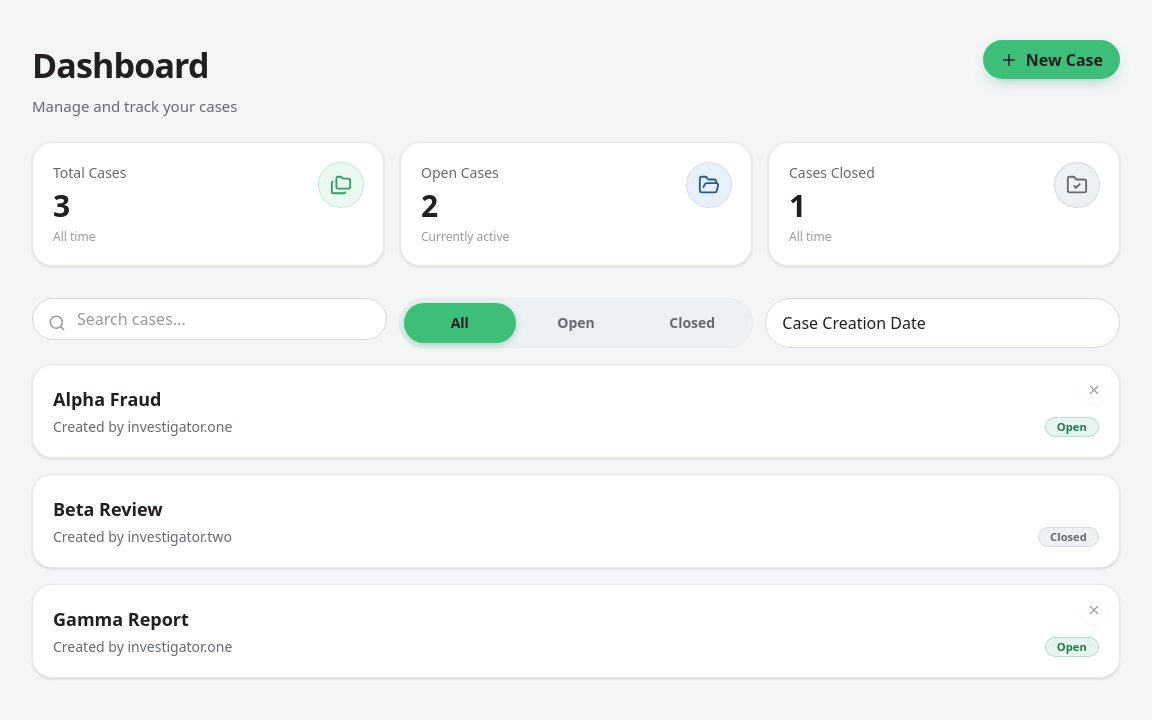
Test: Dashboard (integration) › deletes a case and removes it from the list after refresh
Click the button named "Delete case" in the row of "Alpha Fraud" at [1094, 390], box [1080, 376, 1108, 404]
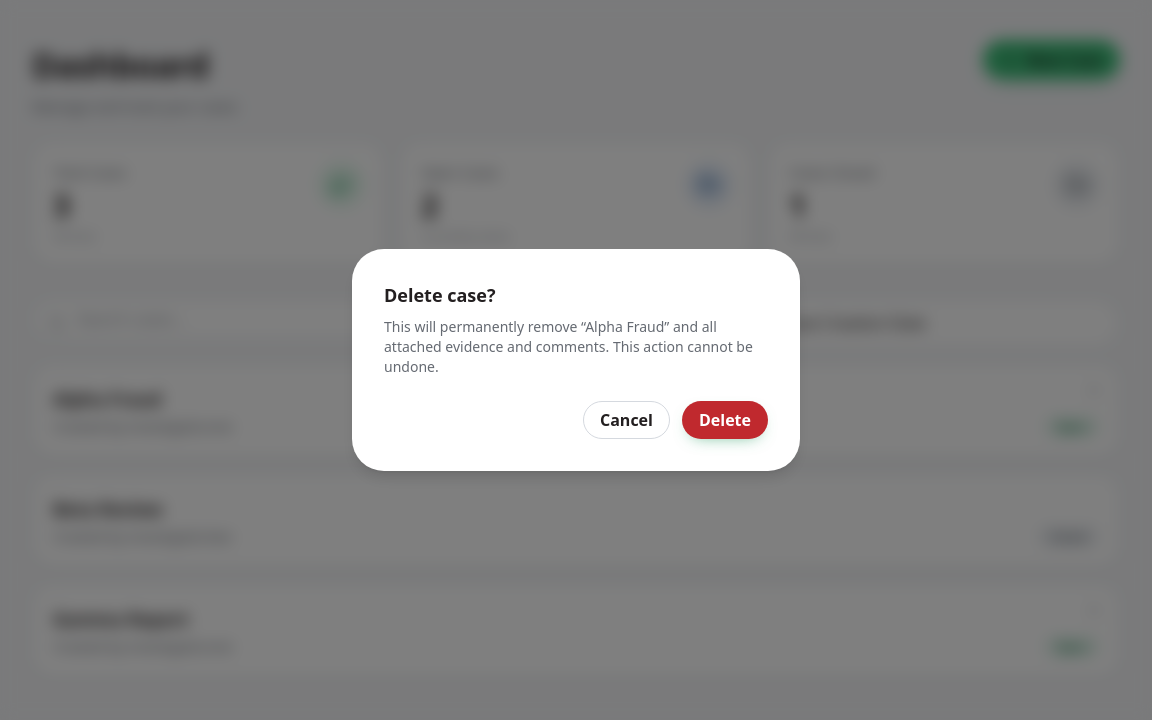
Click the button "Delete" at [725, 420], box [682, 401, 768, 439]
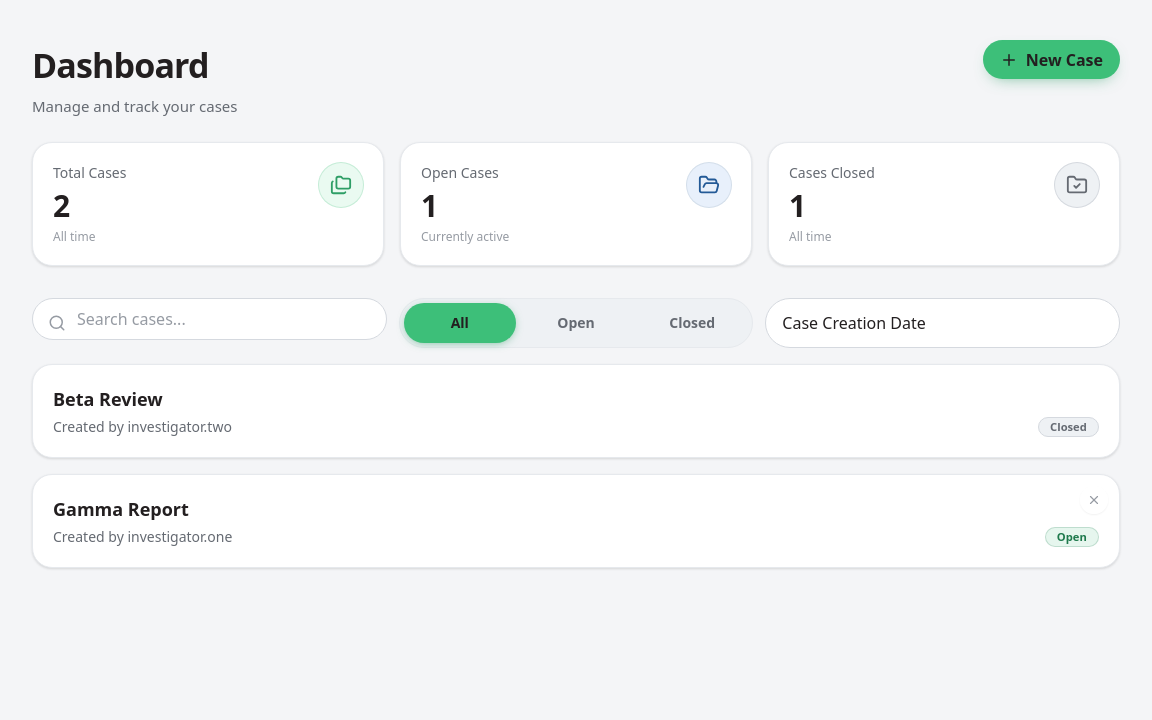
Check: the text "Beta Review" is shown, box [53, 386, 163, 410]
Check: the text "Alpha Fraud" is gone
